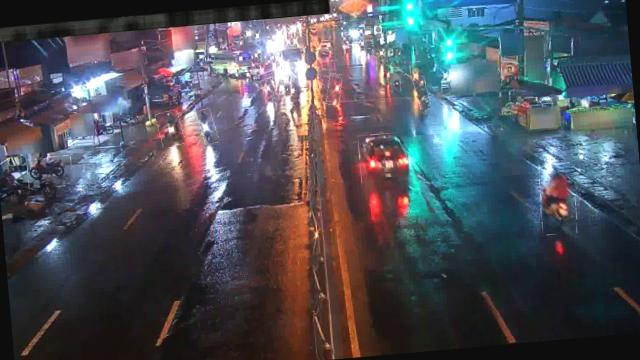Bike: (537, 163, 578, 236), (28, 156, 74, 190), (156, 110, 184, 148), (198, 108, 218, 145), (414, 75, 432, 110), (325, 74, 343, 106), (387, 68, 402, 94), (262, 78, 276, 100), (410, 60, 422, 82), (275, 77, 286, 96)
Car: (358, 132, 415, 184)
